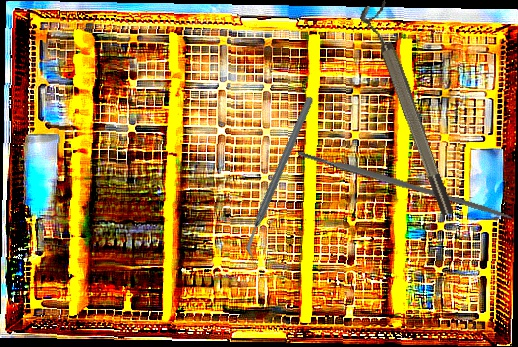Chopper: (194, 93, 366, 263)
Fixation Ring: (357, 0, 458, 221)
Scalpel Handle: (294, 147, 515, 222)
